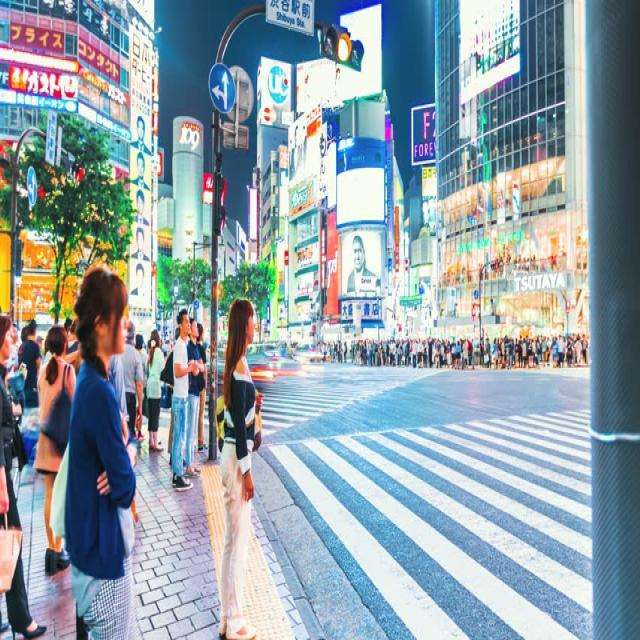body: (62, 265, 147, 639), (213, 292, 265, 639), (77, 289, 132, 604), (0, 313, 48, 640), (30, 314, 78, 582), (168, 309, 196, 495), (129, 106, 153, 306), (160, 327, 182, 469), (183, 316, 202, 479), (144, 328, 167, 453), (121, 319, 143, 441), (342, 232, 378, 291), (21, 317, 43, 408), (196, 320, 209, 453), (494, 251, 556, 277), (132, 330, 146, 442), (440, 257, 496, 283), (288, 122, 309, 182), (316, 339, 360, 364), (297, 64, 311, 109), (17, 324, 31, 368), (64, 316, 79, 355), (9, 322, 20, 374), (330, 64, 342, 103), (432, 336, 447, 367), (158, 324, 174, 352), (277, 337, 301, 355), (503, 334, 514, 369), (564, 333, 573, 368), (556, 332, 564, 371), (516, 332, 524, 369), (580, 332, 588, 368), (550, 335, 558, 369), (570, 331, 578, 365), (525, 336, 533, 369), (528, 336, 536, 368), (560, 334, 567, 369), (520, 336, 527, 371), (534, 335, 542, 365), (458, 337, 465, 371), (544, 335, 551, 368), (485, 336, 492, 369), (404, 336, 411, 369), (575, 336, 583, 364), (491, 336, 498, 368), (494, 336, 501, 368), (461, 338, 468, 370), (574, 330, 581, 362), (454, 339, 461, 369), (524, 333, 530, 368), (468, 336, 474, 371), (395, 339, 402, 368), (416, 336, 422, 369), (553, 336, 559, 369), (368, 338, 375, 366), (478, 334, 484, 366), (205, 325, 212, 352), (378, 336, 384, 367), (540, 333, 546, 364), (385, 337, 391, 367), (565, 333, 571, 363), (473, 335, 479, 365), (393, 337, 399, 367), (466, 336, 472, 365), (444, 340, 450, 368), (388, 338, 394, 366), (381, 338, 387, 366), (498, 335, 503, 368), (428, 335, 433, 368), (449, 336, 457, 356), (421, 337, 426, 368), (411, 337, 416, 368), (365, 336, 370, 367), (374, 337, 379, 367), (408, 337, 413, 367), (359, 339, 364, 365), (363, 339, 368, 365), (400, 339, 405, 365), (390, 337, 394, 367), (36, 335, 44, 349), (142, 339, 150, 352), (514, 336, 520, 352), (174, 326, 180, 338)
